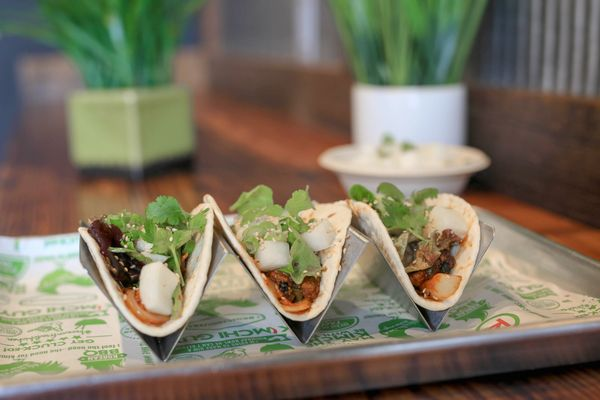pizza: (350, 79, 470, 148)
sushi: (321, 139, 491, 196)
